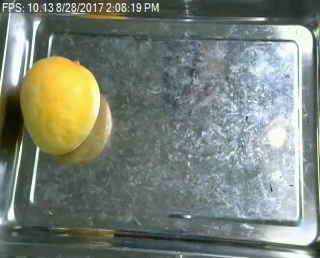Mango: (17, 55, 99, 156)
